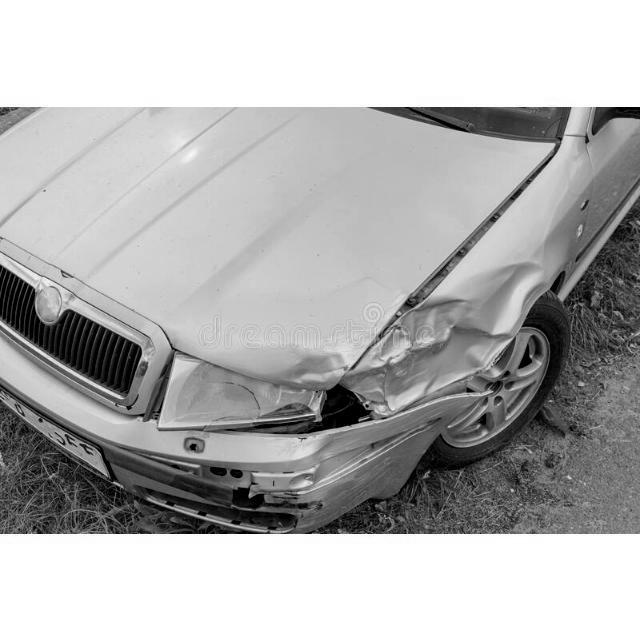Headlight-damage: (158, 338, 335, 438)
fender-dent: (353, 264, 584, 457)
front-bumper-dent: (40, 397, 492, 526)
